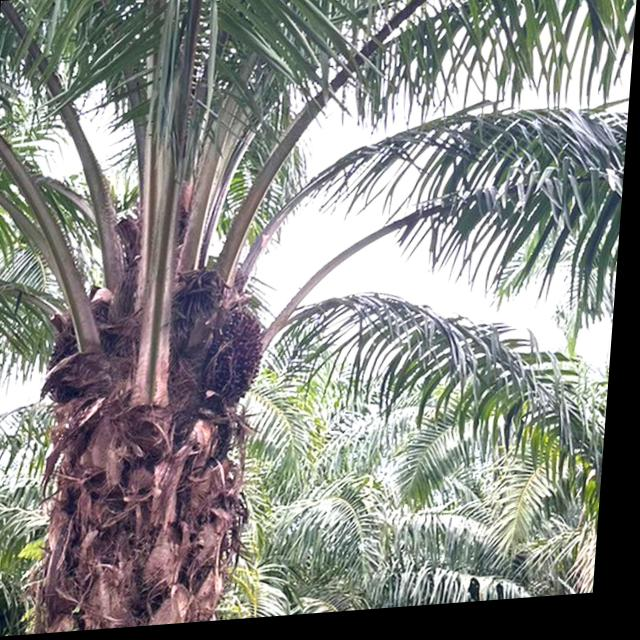ripe: (203, 297, 273, 404)
